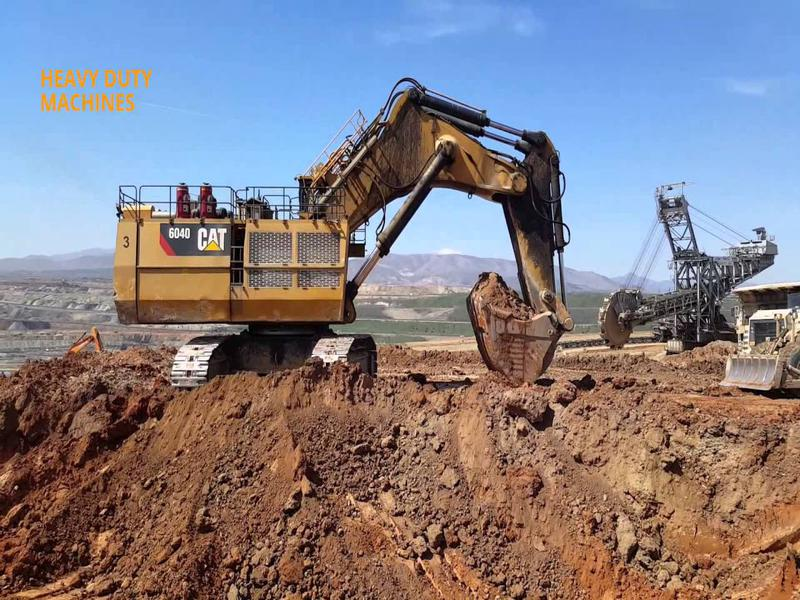shovel: (110, 75, 581, 393)
